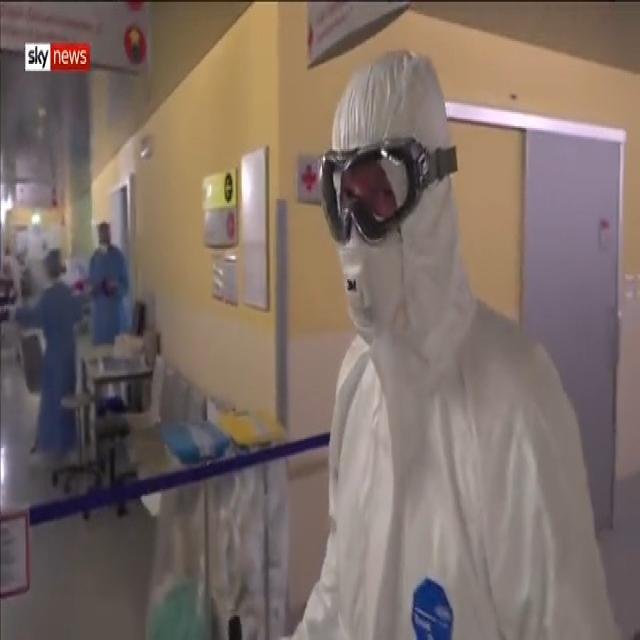Goggles: (314, 138, 459, 256)
Mask: (326, 222, 424, 354)
